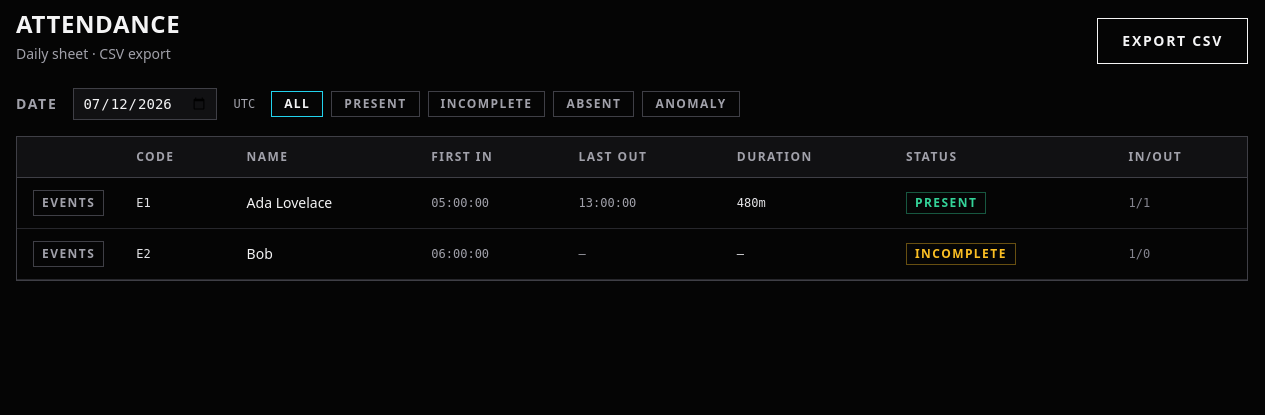
Attendance explainability › expands a row by accessible name and shows ordered fields
Check: the text "Ada Lovelace" is shown, box [231,178,415,228]
Click the button with test id "expand-1": (69, 203) [33,190,104,216]
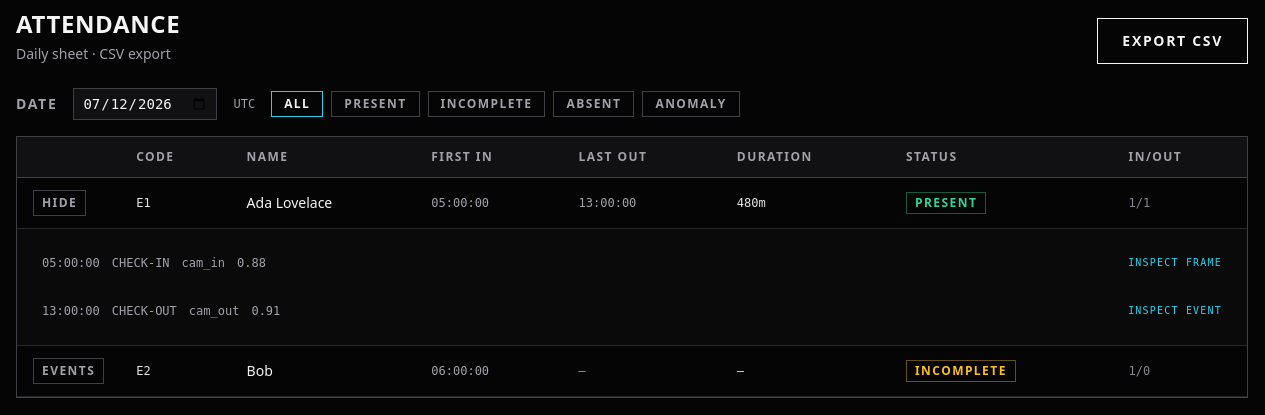
Check: the button with test id "expand-1" is expanded
Check: the text "05:00:00" is shown, box [42,255,100,271]
Check: the text "check-in" is shown, box [112,255,170,271]
Click the button with test id "expand-1": (60, 203) [33,190,86,216]
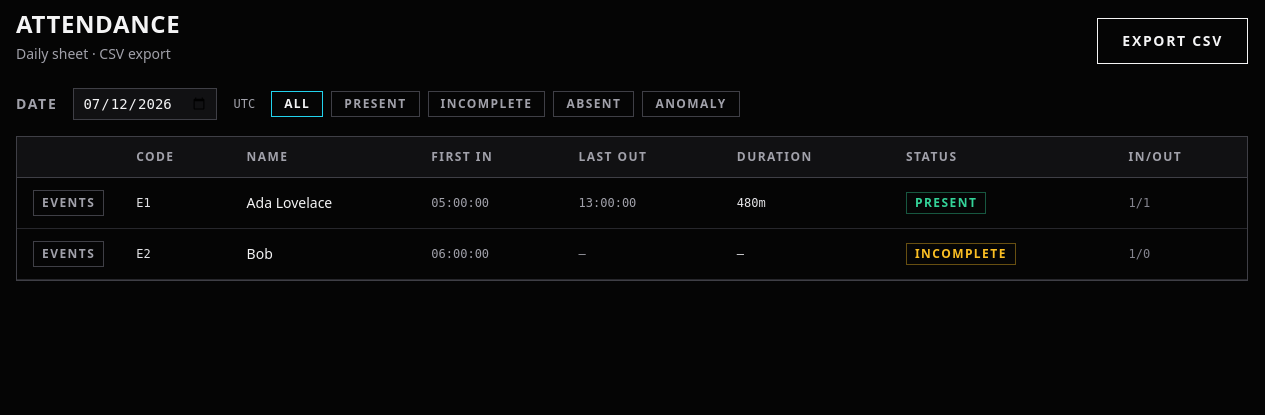
Check: the button with test id "expand-1" is collapsed, box [33,190,104,216]
Check: the element with test id "detail-1" is gone
